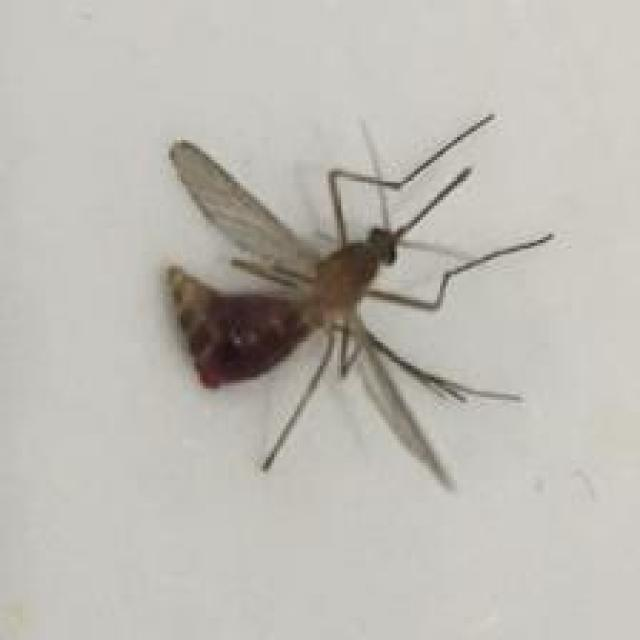Culex: (163, 110, 554, 493)
